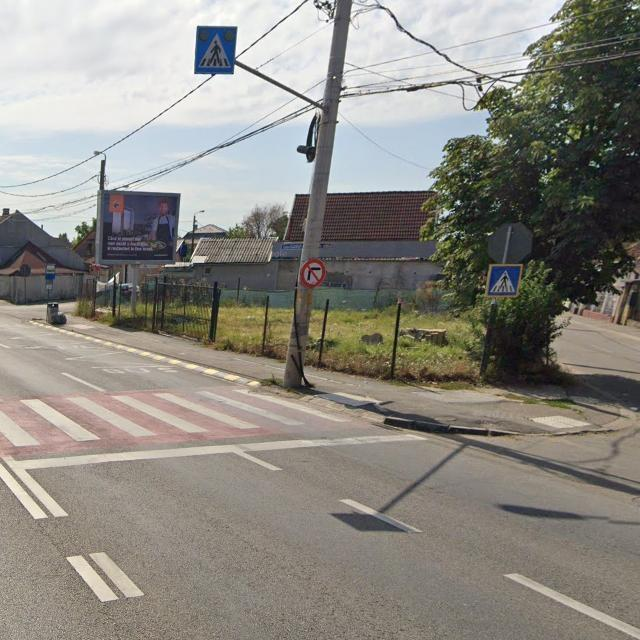info_crosswalk: (194, 25, 237, 75), (486, 264, 523, 297)
